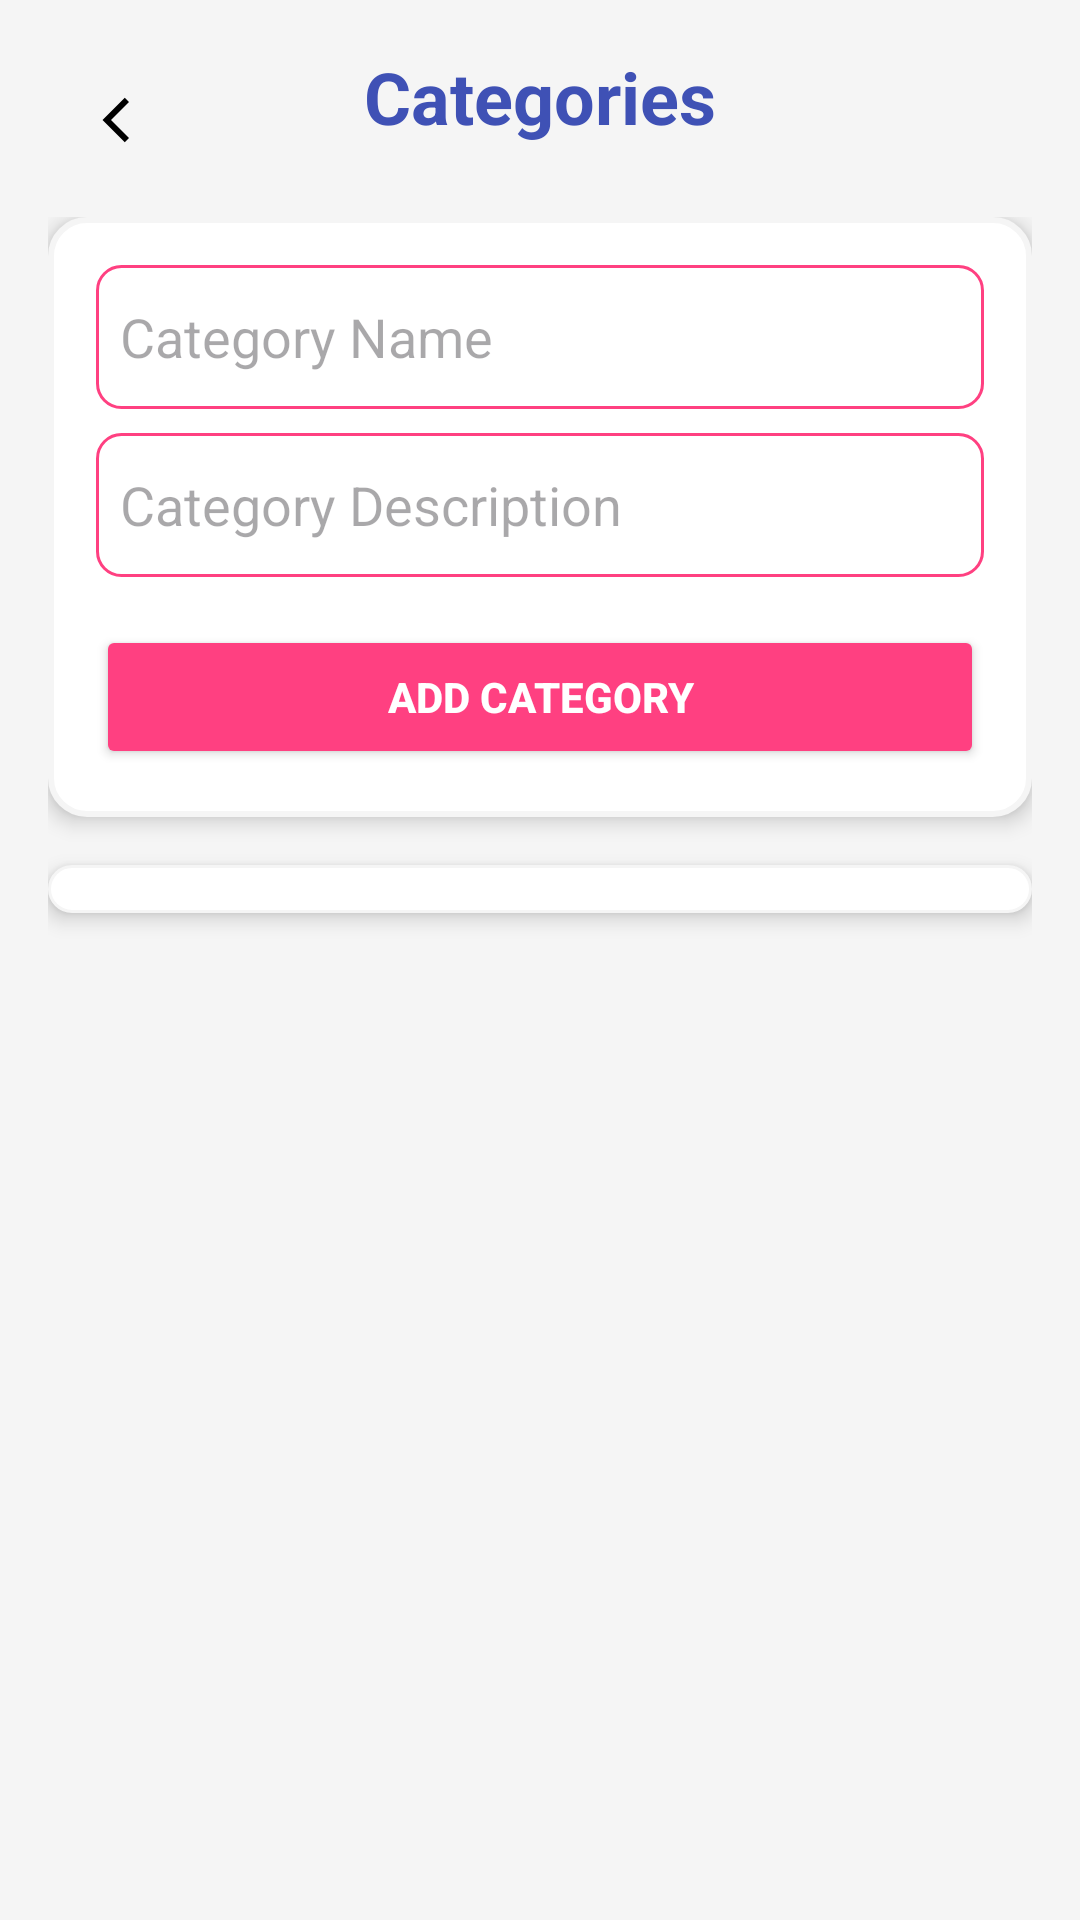

Screen size 1080 × 1920. Icon name, then its box in pixels as (x1, y1, x2, y2):
Back: (102, 98, 129, 142)
